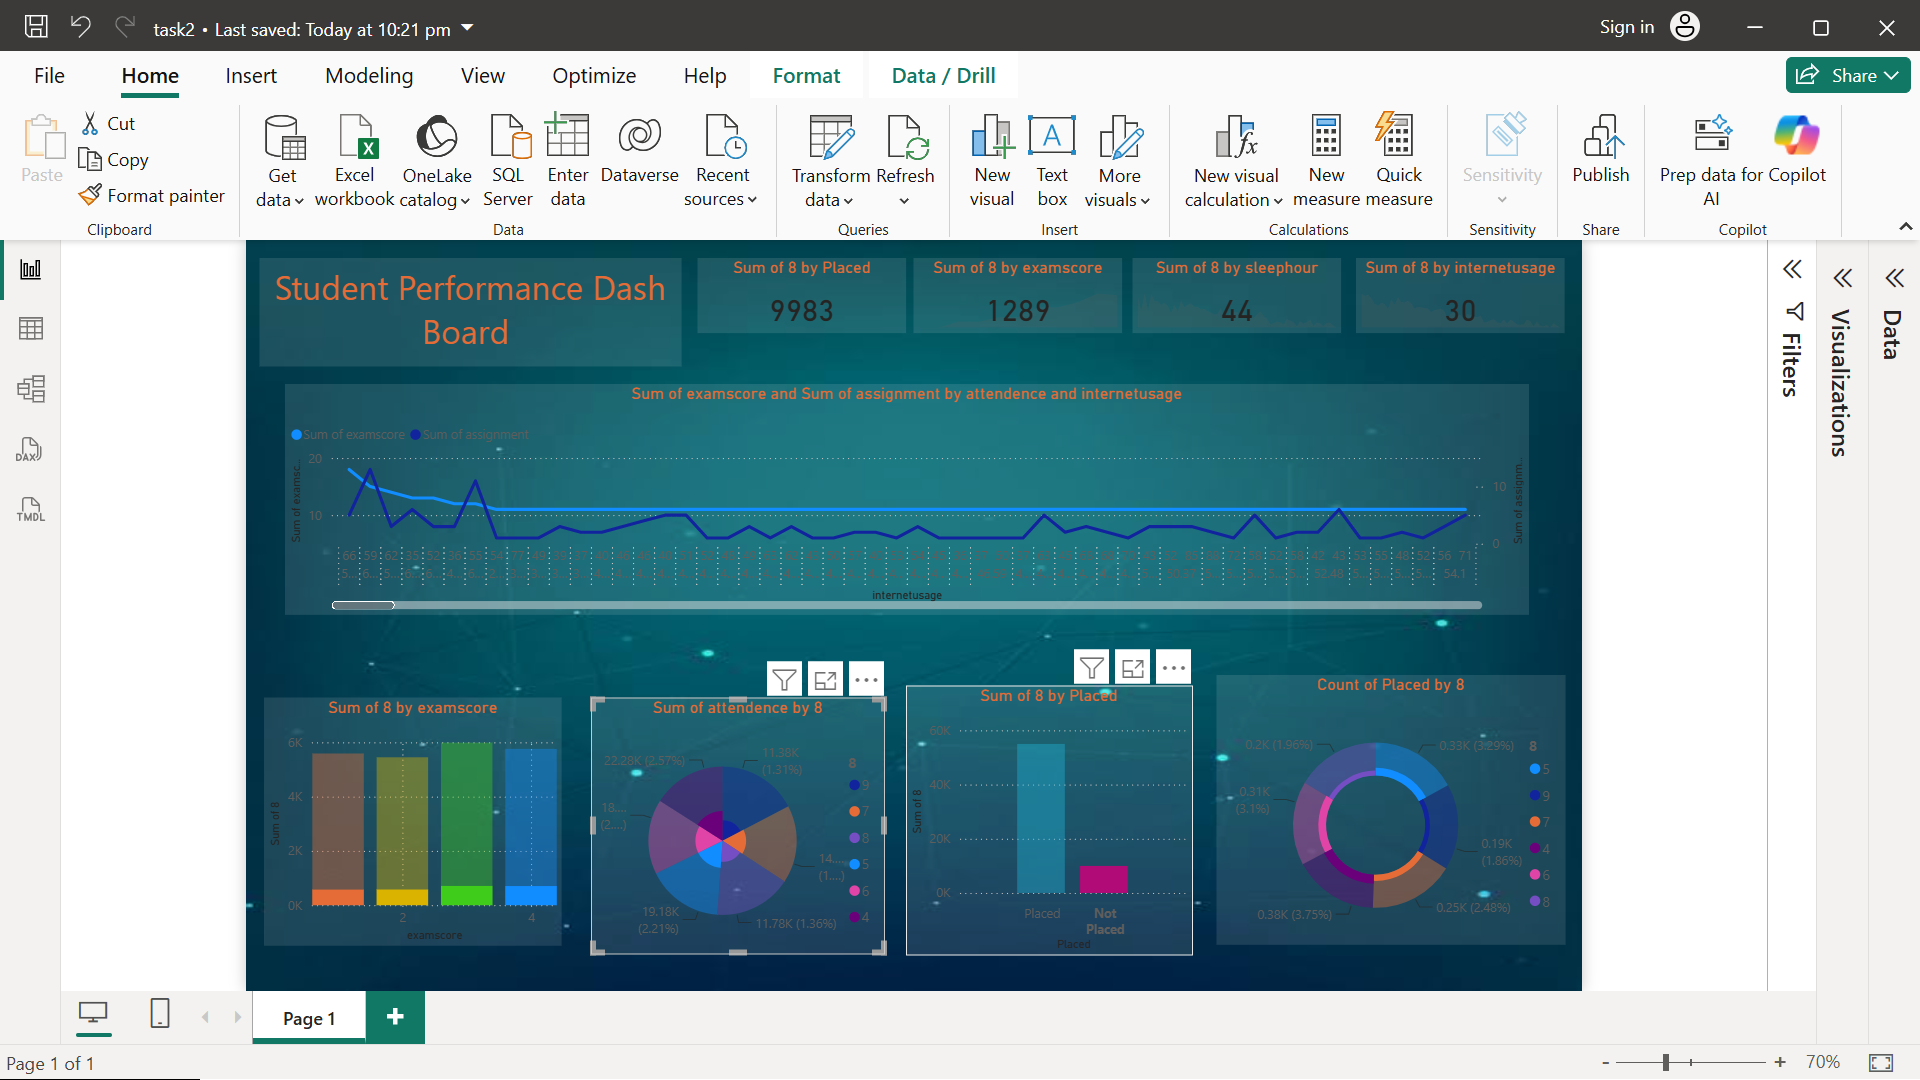

The dashboard page shown, as its layout file describes it:
{"tool":"powerbi","page":{"name":"Page 1","canvas":[1280,720],"ordinal":0},"visuals":[{"type":"clusteredColumnChart","fields":{"Category":["student_dataset_10000_rows.examscore"],"Y":["Sum(student_dataset_10000_rows.8)"]},"box":[17,438.4,285.4,238.1],"z":0},{"type":"pieChart","fields":{"Category":["student_dataset_10000_rows.8"],"Y":["Sum(student_dataset_10000_rows.attendence)"]},"box":[330.7,438.4,281.6,245.7],"z":1},{"type":"columnChart","fields":{"Category":["student_dataset_10000_rows.Placed"],"Y":["Sum(student_dataset_10000_rows.8)"]},"box":[633.1,427.1,274,258.9],"z":2},{"type":"lineChart","fields":{"Category":["student_dataset_10000_rows.attendence","student_dataset_10000_rows.internetusage"],"Y":["Sum(student_dataset_10000_rows.examscore)"],"Y2":["Sum(student_dataset_10000_rows.assignment)"]},"box":[37.8,138,1192.5,221.1],"z":3},{"type":"textbox","box":[13.2,17,404.4,103.9],"z":4},{"type":"kpi","fields":{"TrendLine":["student_dataset_10000_rows.Placed"],"Indicator":["Sum(student_dataset_10000_rows.8)"]},"box":[432.8,17,200.3,71.8],"z":5},{"type":"kpi","fields":{"TrendLine":["student_dataset_10000_rows.sleephour"],"Indicator":["Sum(student_dataset_10000_rows.8)"]},"box":[850.4,17,200.3,71.8],"z":6},{"type":"kpi","fields":{"TrendLine":["student_dataset_10000_rows.examscore"],"Indicator":["Sum(student_dataset_10000_rows.8)"]},"box":[640.6,17,200.3,71.8],"z":7},{"type":"kpi","fields":{"TrendLine":["student_dataset_10000_rows.internetusage"],"Indicator":["Sum(student_dataset_10000_rows.8)"]},"box":[1063.9,17,200.3,71.8],"z":8},{"type":"donutChart","fields":{"Category":["student_dataset_10000_rows.8","student_dataset_10000_rows.examscore"],"Y":["CountNonNull(student_dataset_10000_rows.Placed)"]},"box":[929.8,417.6,334.5,258.9],"z":9}]}

Visuals, with their boxes on the page's 1280x720 design canvas (x1, y1, x2, y2). These are canvas units, not pixel positions in the 1920x1080 screenshot, which may show the page scaled, cropped or inside an application window:
clusteredColumnChart - student_dataset_10000_rows.examscore x Sum(student_dataset_10000_rows.8): l=17, t=438, r=302, b=676
pieChart - student_dataset_10000_rows.8 x Sum(student_dataset_10000_rows.attendence): l=331, t=438, r=612, b=684
columnChart - student_dataset_10000_rows.Placed x Sum(student_dataset_10000_rows.8): l=633, t=427, r=907, b=686
lineChart - student_dataset_10000_rows.attendence x student_dataset_10000_rows.internetusage: l=38, t=138, r=1230, b=359
textbox: l=13, t=17, r=418, b=121
kpi - student_dataset_10000_rows.Placed x Sum(student_dataset_10000_rows.8): l=433, t=17, r=633, b=89
kpi - student_dataset_10000_rows.sleephour x Sum(student_dataset_10000_rows.8): l=850, t=17, r=1051, b=89
kpi - student_dataset_10000_rows.examscore x Sum(student_dataset_10000_rows.8): l=641, t=17, r=841, b=89
kpi - student_dataset_10000_rows.internetusage x Sum(student_dataset_10000_rows.8): l=1064, t=17, r=1264, b=89
donutChart - student_dataset_10000_rows.8 x student_dataset_10000_rows.examscore: l=930, t=418, r=1264, b=676
